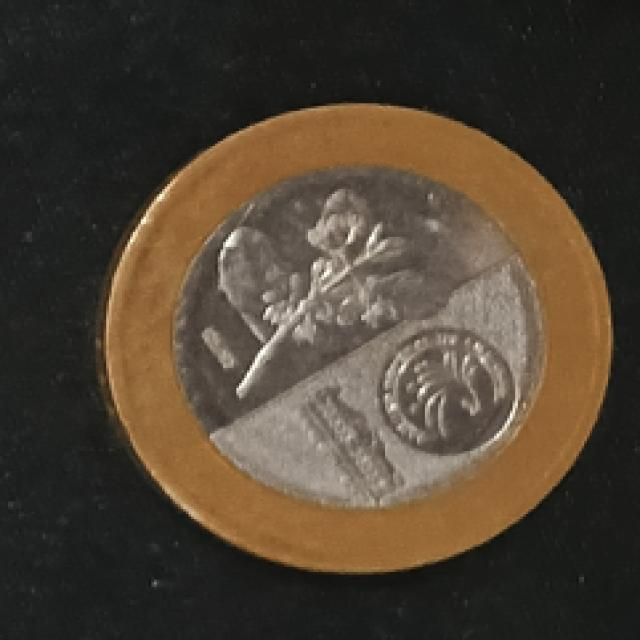20_peso: (101, 103, 611, 569)
